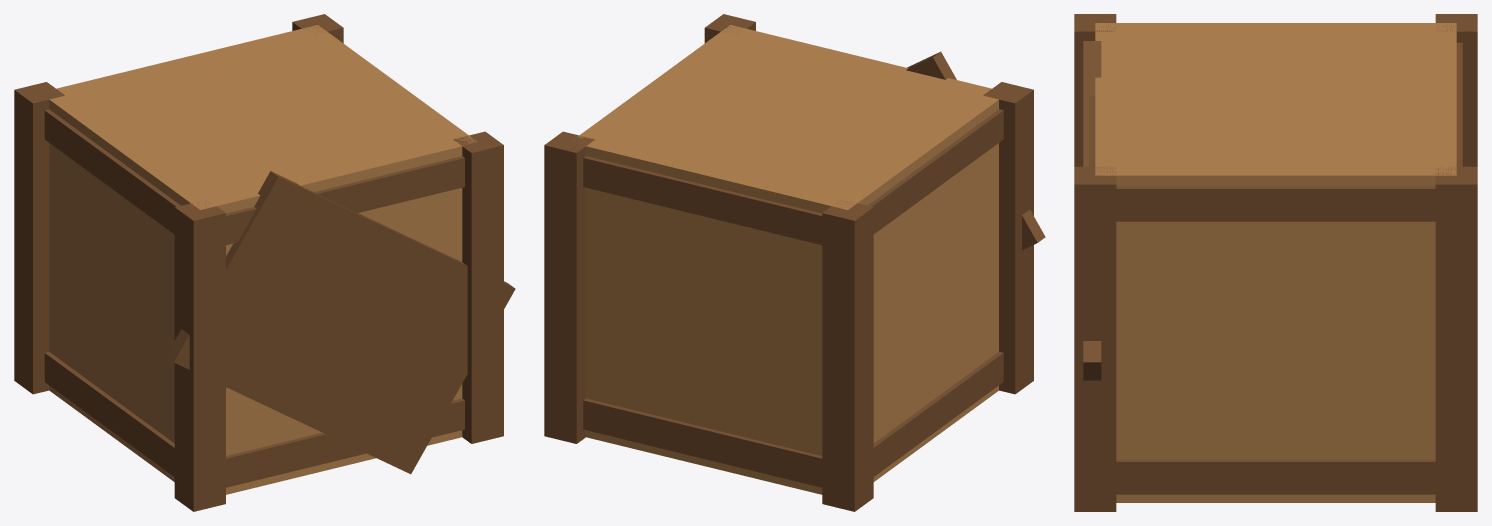
Rendered from Prop_Crate.fbx.
The picture shows the model from 3 angles, left to right: view 1: azimuth 30°, elevation 25°; view 2: azimuth 150°, elevation 25°; view 3: azimuth 270°, elevation 25°; orthographic projection. The views are drawn at different scales.
Visible parts, largest first — view 1: Prop_Crate.001; view 2: Prop_Crate.001; view 3: Prop_Crate.001.
Part boxes in pixels (left/top/right/bottom): Prop_Crate.001: left=14, top=14, right=515, bottom=511; Prop_Crate.001: left=544, top=14, right=1045, bottom=511; Prop_Crate.001: left=1074, top=14, right=1477, bottom=511.
Size of the model in its own units: 0.7376 by 0.6802 by 0.67.
